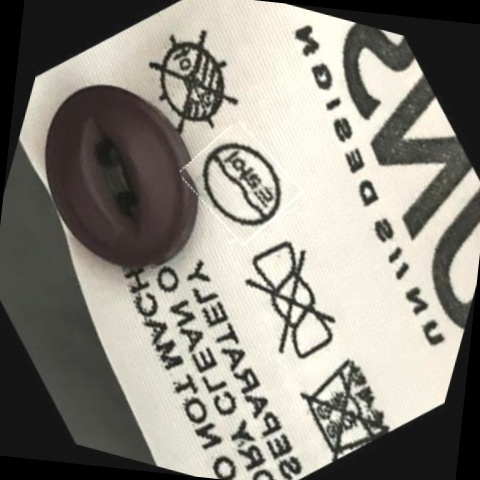DN_dry: (135, 24, 251, 141)
DN_wring: (226, 238, 356, 368)
dry_clean: (188, 131, 293, 238)
hand_wash: (289, 344, 399, 462)
